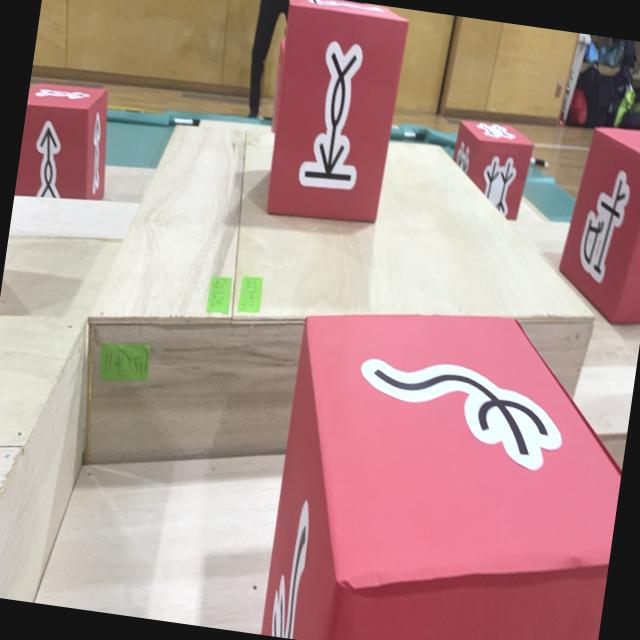12: (28, 118, 72, 200), (84, 110, 111, 196), (36, 84, 90, 105)
13: (344, 350, 572, 480), (270, 493, 321, 640)
5: (576, 164, 634, 286)
6: (478, 152, 518, 218), (477, 121, 518, 143), (453, 138, 473, 176)
7: (297, 36, 375, 194)
fighter: (259, 286, 640, 640), (258, 0, 410, 230), (552, 119, 640, 327), (14, 80, 119, 210), (447, 114, 538, 222)
